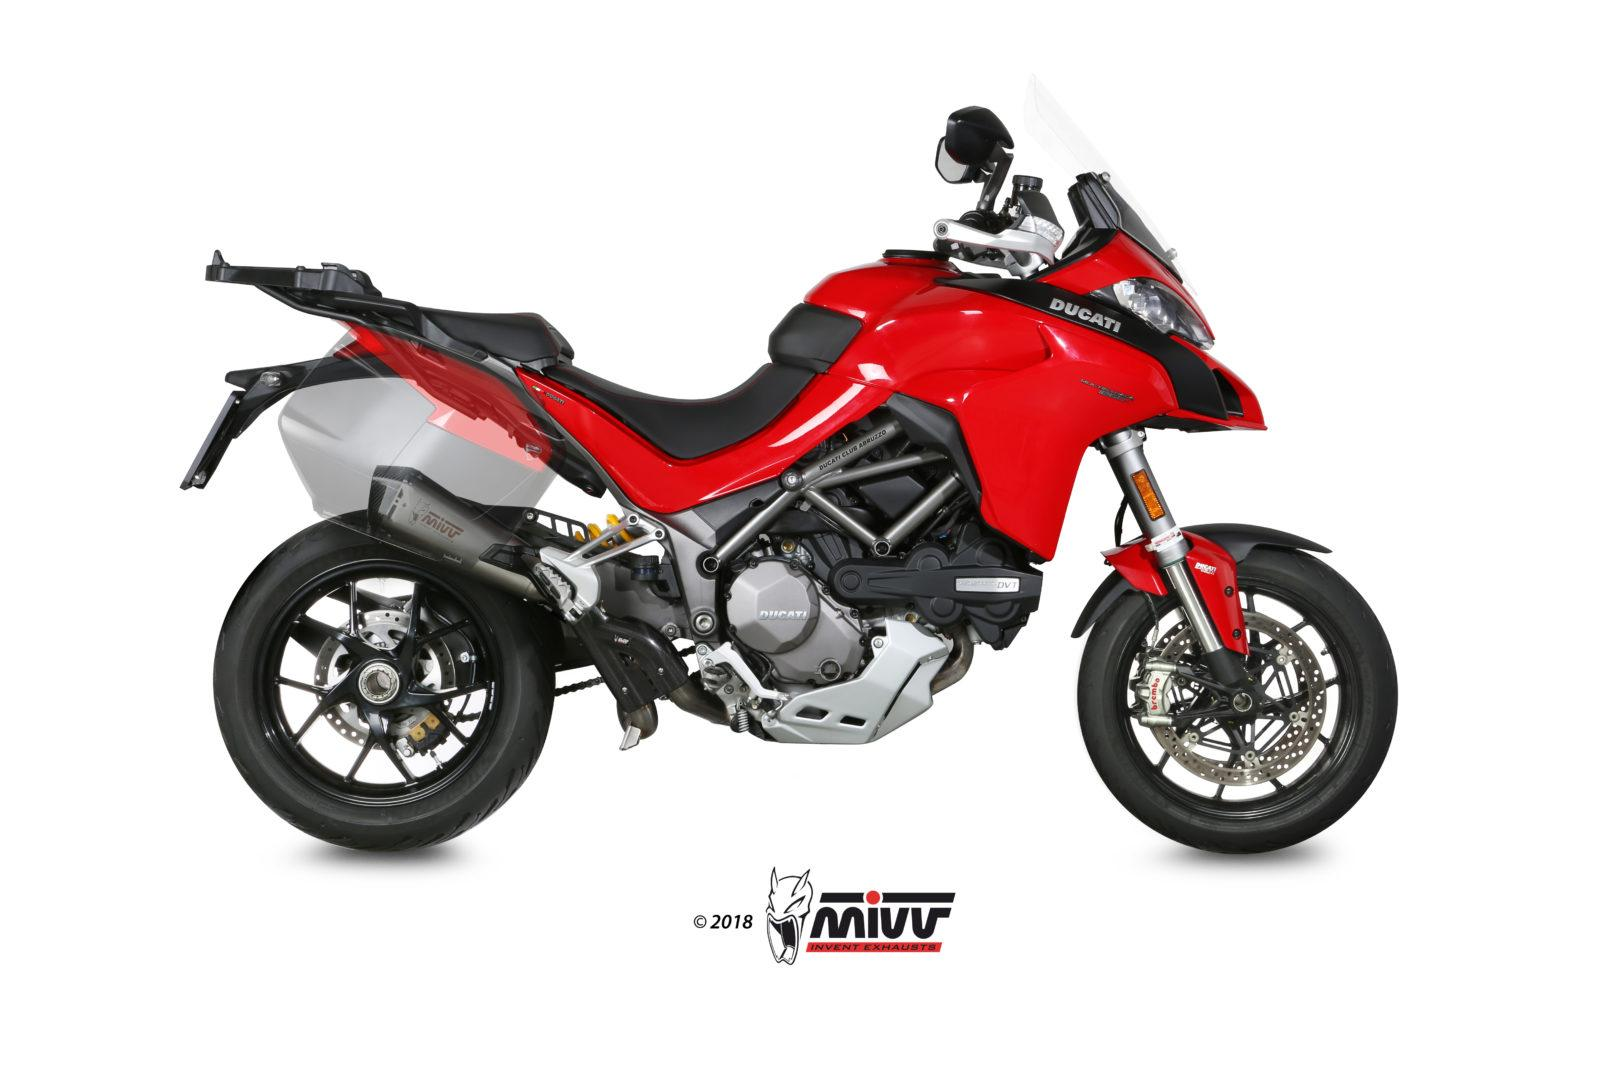engine-chasis: (657, 401, 1044, 745), (598, 528, 646, 550), (588, 513, 626, 541)
exhaust: (365, 464, 565, 623), (558, 599, 730, 751), (930, 612, 974, 697)
frontside: (886, 73, 1335, 728)
handlebar: (932, 105, 1118, 280)
motorbike: (180, 104, 1399, 853)
rearside: (179, 249, 894, 643)
seat: (418, 302, 862, 460)
tank: (802, 249, 1050, 392)
watermark: (687, 865, 962, 971)
wheel: (212, 519, 556, 853), (1076, 544, 1399, 855), (555, 675, 606, 697), (1142, 591, 1160, 648), (1113, 494, 1129, 547), (446, 710, 482, 725)
